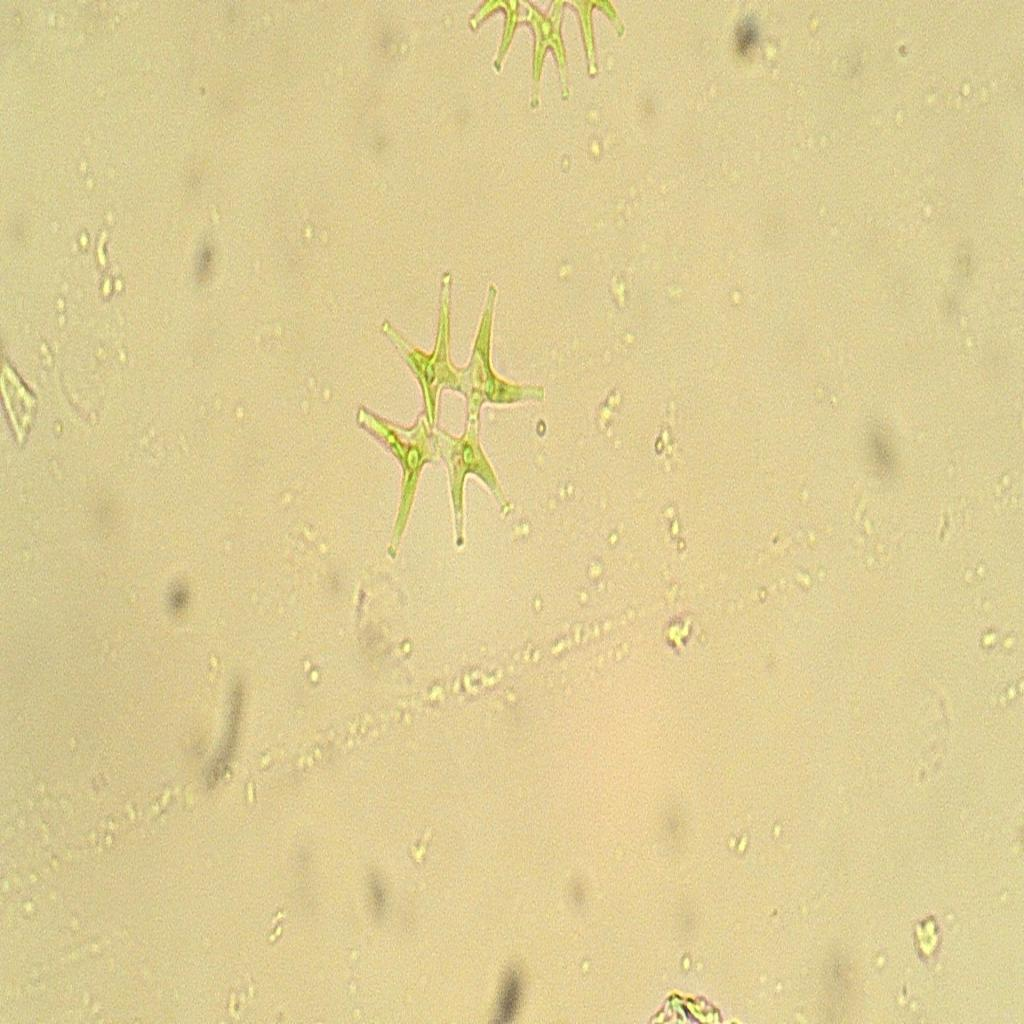Pediastrum_CF: (344, 243, 552, 579)
